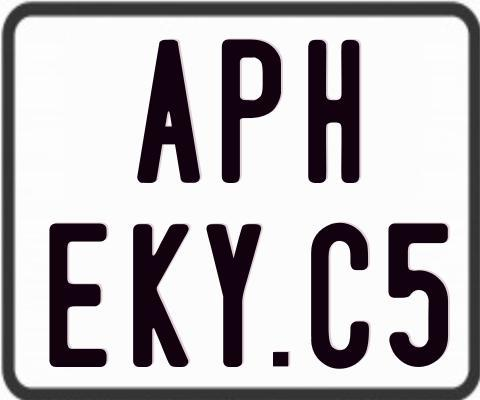5: (385, 223, 449, 369)
A: (136, 40, 201, 187)
C: (311, 220, 370, 371)
E: (49, 223, 113, 373)
H: (306, 38, 359, 186)
K: (130, 224, 186, 371)
P: (219, 37, 284, 181)
Y: (206, 221, 260, 364)
